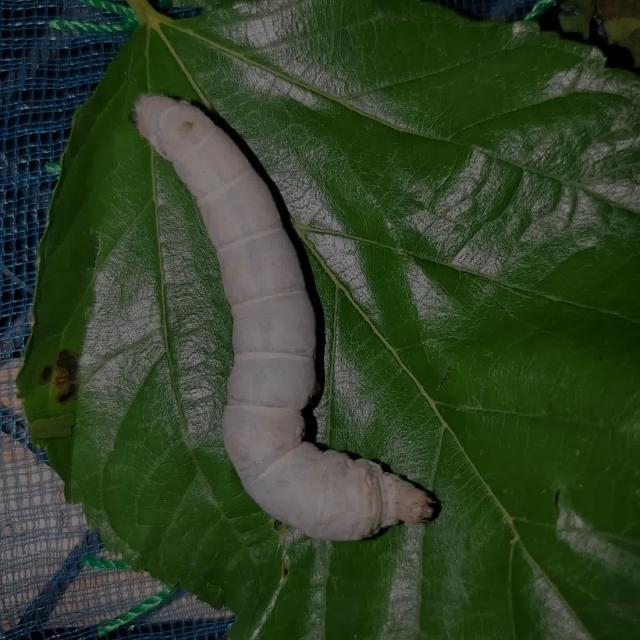Healthy: (93, 52, 454, 583)
